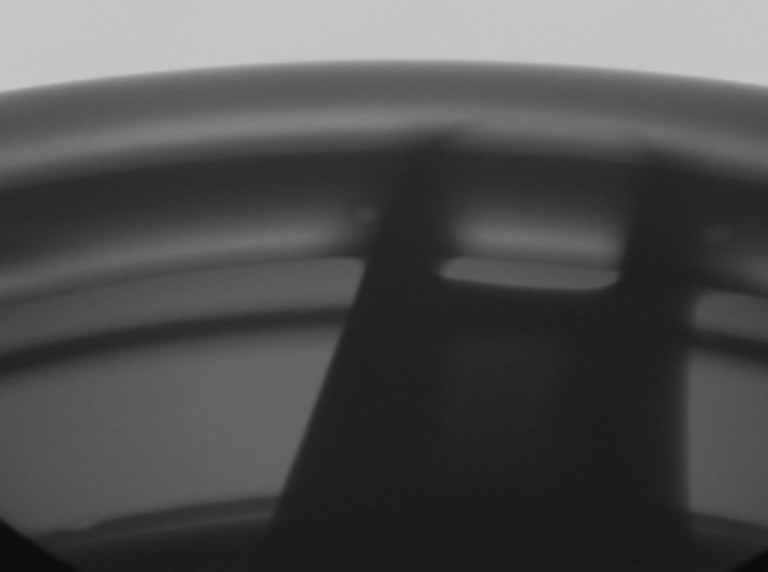defect: (351, 197, 390, 237)
